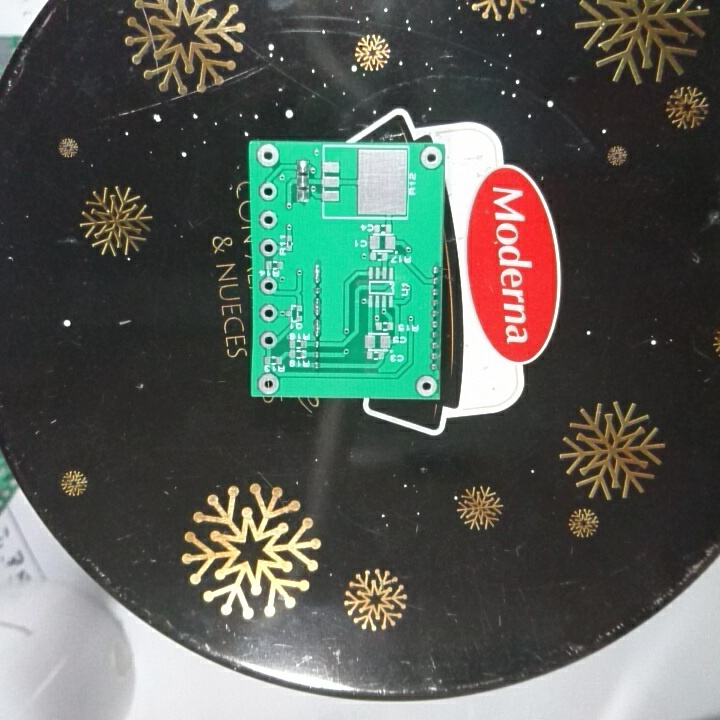F: (254, 143, 282, 169), (418, 144, 445, 170), (256, 370, 280, 394), (414, 374, 437, 398), (257, 207, 279, 231), (258, 302, 279, 324), (258, 236, 278, 259), (259, 275, 279, 298), (257, 180, 277, 202), (258, 330, 280, 350)
P: (311, 262, 325, 286), (310, 296, 325, 318), (311, 318, 323, 338)
